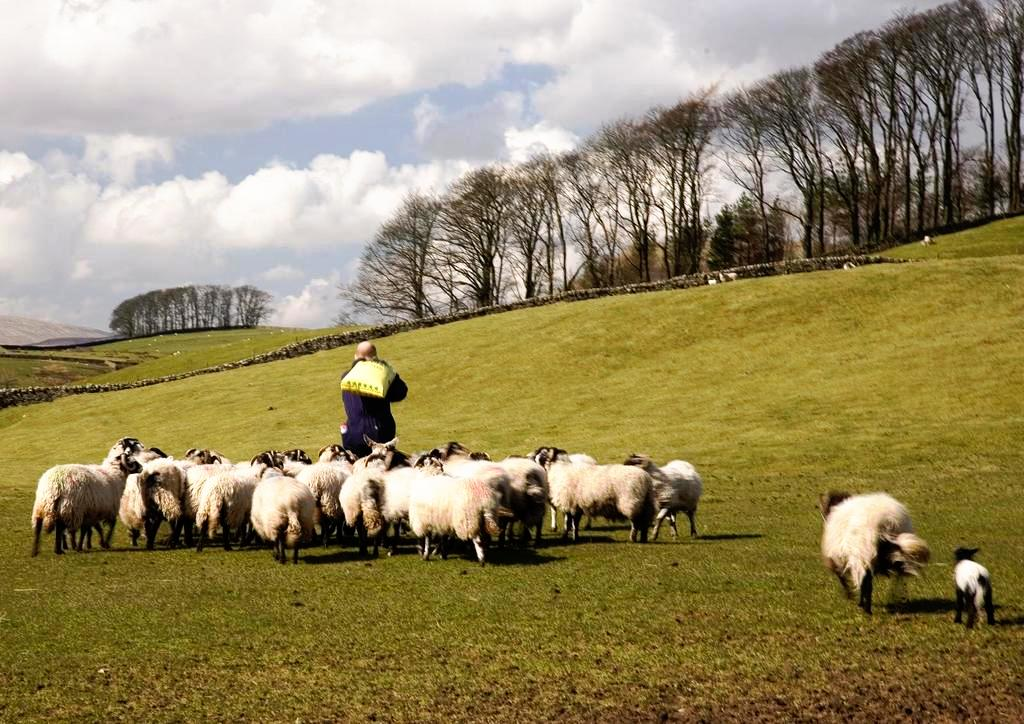Sheep: (817, 484, 929, 627), (538, 443, 657, 549), (446, 438, 543, 561), (27, 455, 140, 558), (408, 456, 504, 567), (99, 435, 185, 547), (191, 447, 277, 551), (623, 447, 702, 541), (425, 446, 514, 529), (245, 465, 313, 565), (946, 541, 1002, 637), (341, 451, 391, 558), (306, 443, 354, 539)
